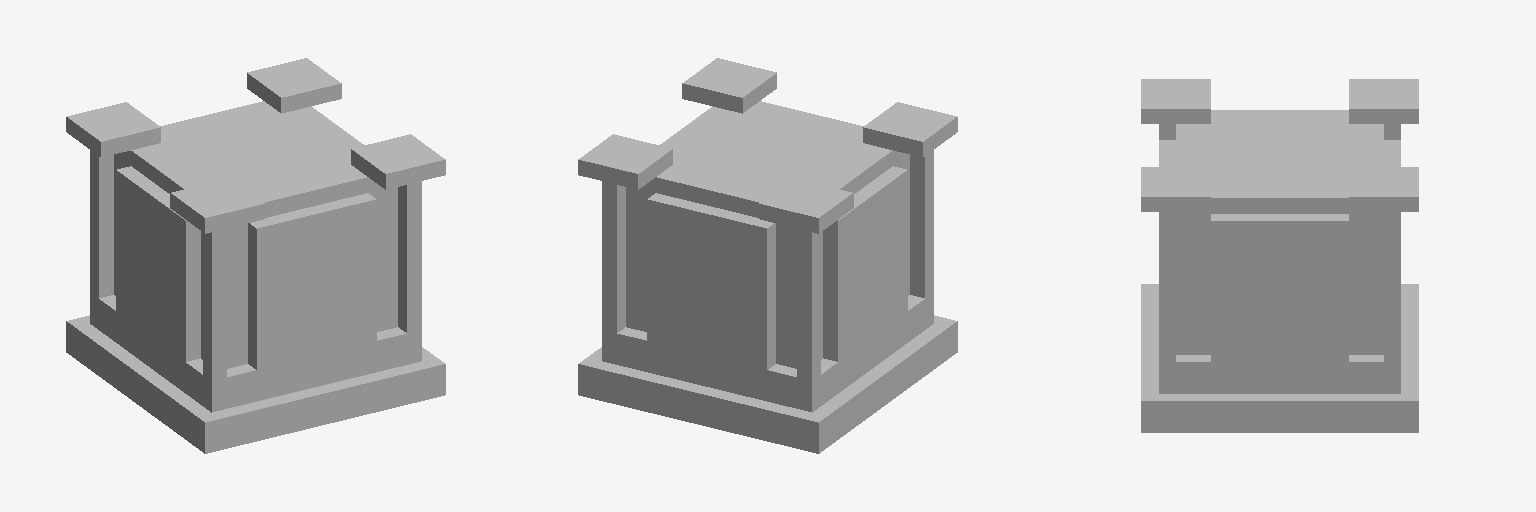
File: crafting_altar.obj
3 renders of one model, left to right at view 1: azimuth 30°, elevation 25°; view 2: azimuth 150°, elevation 25°; view 3: azimuth 270°, elevation 25°, orthographic.
Parts seen in each view (by area): view 1: bone; view 2: bone; view 3: bone.
Part boxes in pixels (x1,y1,x2,y2): bone: (66, 58, 445, 453); bone: (578, 58, 957, 453); bone: (1141, 79, 1418, 432).
Bounding box in the file's own units: 16 × 15 × 16.